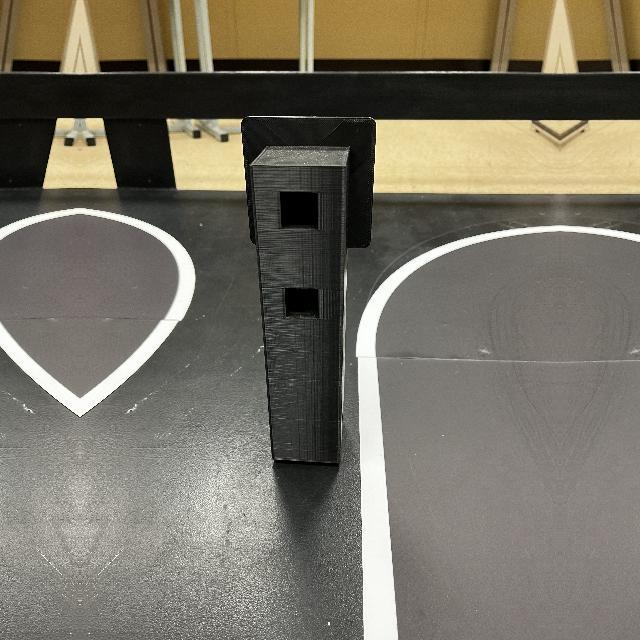obstacle: (237, 108, 377, 468)
